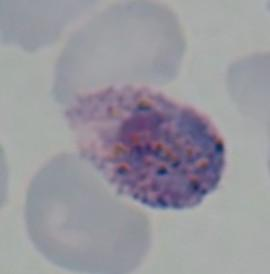Infected: (60, 82, 225, 213)
Uninfected: (26, 154, 154, 274), (53, 0, 185, 115)
